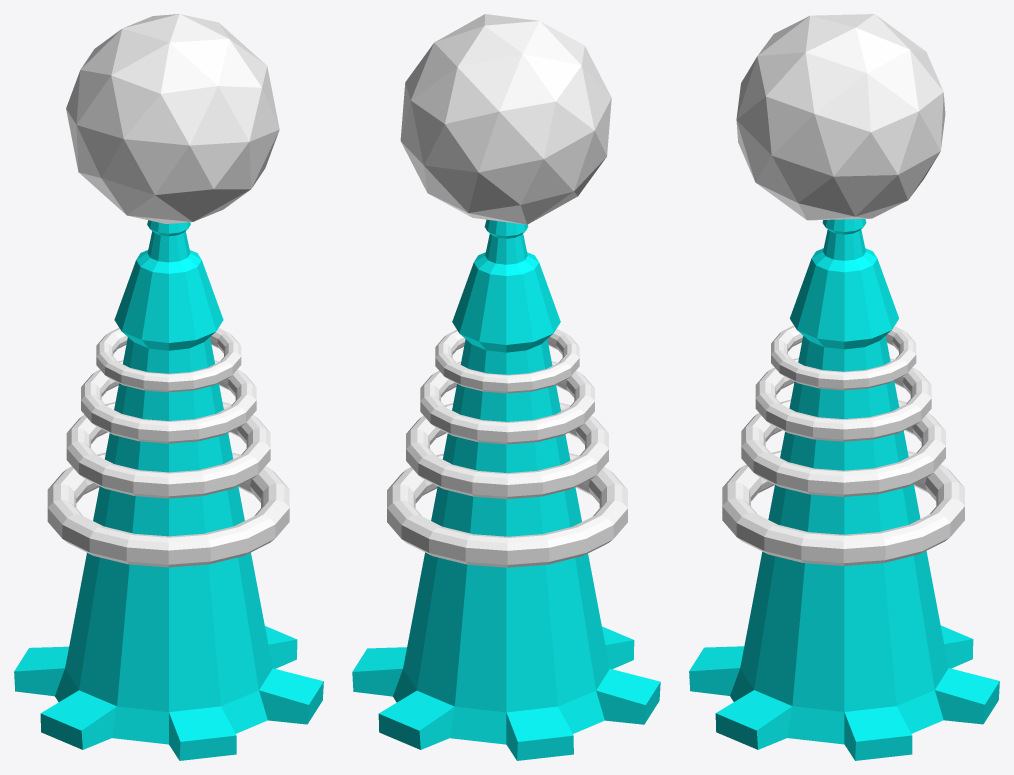
File: tesla.fbx
3 renders of one model, left to right at view 1: azimuth 30°, elevation 25°; view 2: azimuth 150°, elevation 25°; view 3: azimuth 270°, elevation 25°, orthographic.
Visible parts, largest first — view 1: Torus.032; view 2: Torus.032; view 3: Torus.032.
Part boxes in pixels (x1,y1,x2,y2): Torus.032: (14, 14, 323, 760); Torus.032: (352, 14, 660, 760); Torus.032: (689, 14, 999, 760).
Size of the model in its own units: 340 by 816 by 340.
